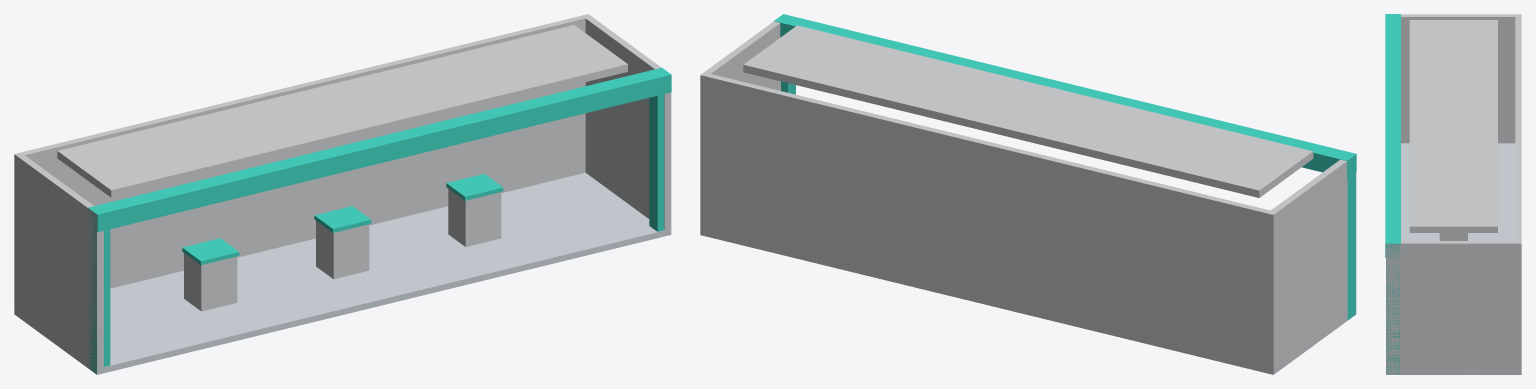
The picture shows the model from 3 angles, left to right: view 1: azimuth 30°, elevation 25°; view 2: azimuth 150°, elevation 25°; view 3: azimuth 270°, elevation 25°; orthographic projection. The views are drawn at different scales.
Visible parts, largest first — view 1: Exhibition Booth Concept; view 2: Exhibition Booth Concept; view 3: Exhibition Booth Concept.
Part boxes in pixels (x1,y1,x2,y2): Exhibition Booth Concept: [14, 14, 671, 374]; Exhibition Booth Concept: [700, 14, 1356, 374]; Exhibition Booth Concept: [1385, 14, 1521, 374].
Bounding box in the file's own units: 12 × 3.34 × 3.01.
